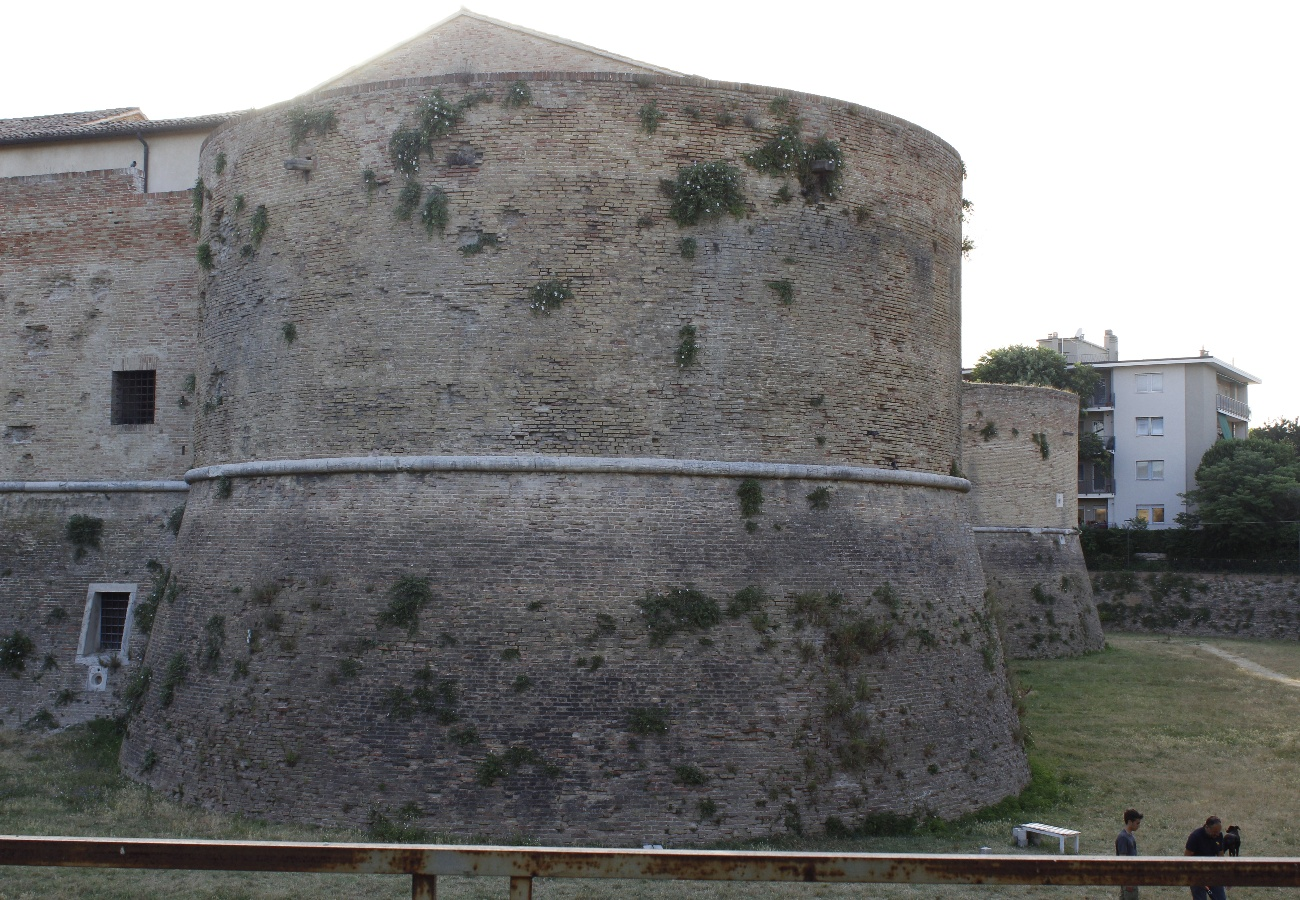Rocca Costanza: (10, 72, 1080, 832)
